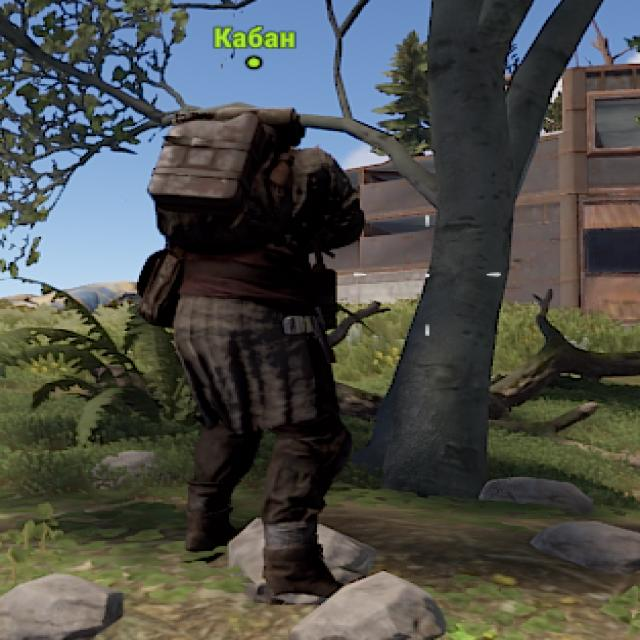Player: (147, 103, 362, 596)
